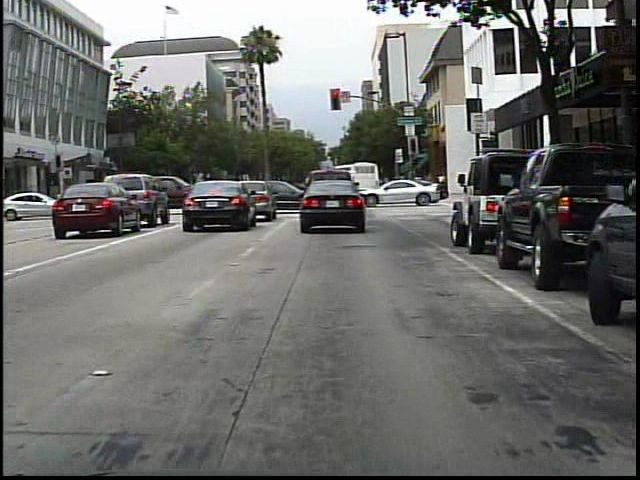person: (435, 169, 452, 200)
